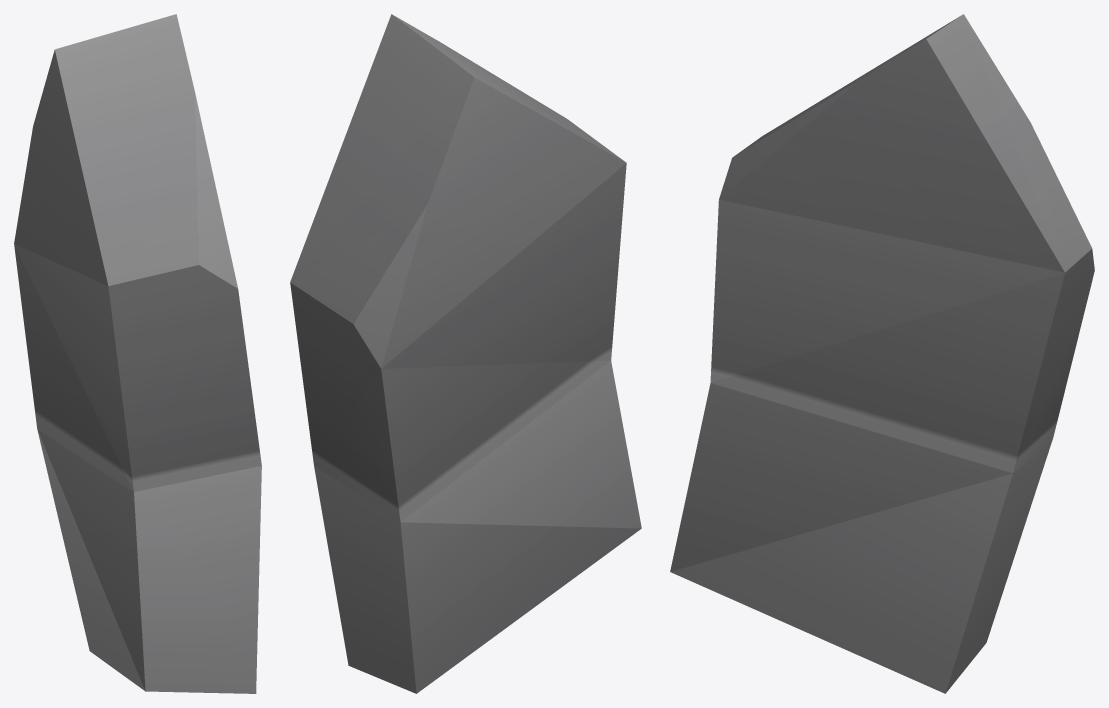
The model's file is ea_grave_stone_mini_01c_pre__25__lev1.glb.
3 renders of one model, left to right at view 1: azimuth 30°, elevation 25°; view 2: azimuth 150°, elevation 25°; view 3: azimuth 270°, elevation 25°, orthographic. The views are drawn at different scales.
Parts seen in each view (by area): view 1: ea_grave_stone_mini_01c_pre__25__lev1; view 2: ea_grave_stone_mini_01c_pre__25__lev1; view 3: ea_grave_stone_mini_01c_pre__25__lev1.
Boxes of the visible parts, x1,y1,x2,y2 form: ea_grave_stone_mini_01c_pre__25__lev1: [14, 14, 261, 693]; ea_grave_stone_mini_01c_pre__25__lev1: [290, 14, 641, 693]; ea_grave_stone_mini_01c_pre__25__lev1: [670, 14, 1094, 693].
Size of the model in its own units: 0.4315 by 1.46 by 0.8774.
1 material, 1 textured.
